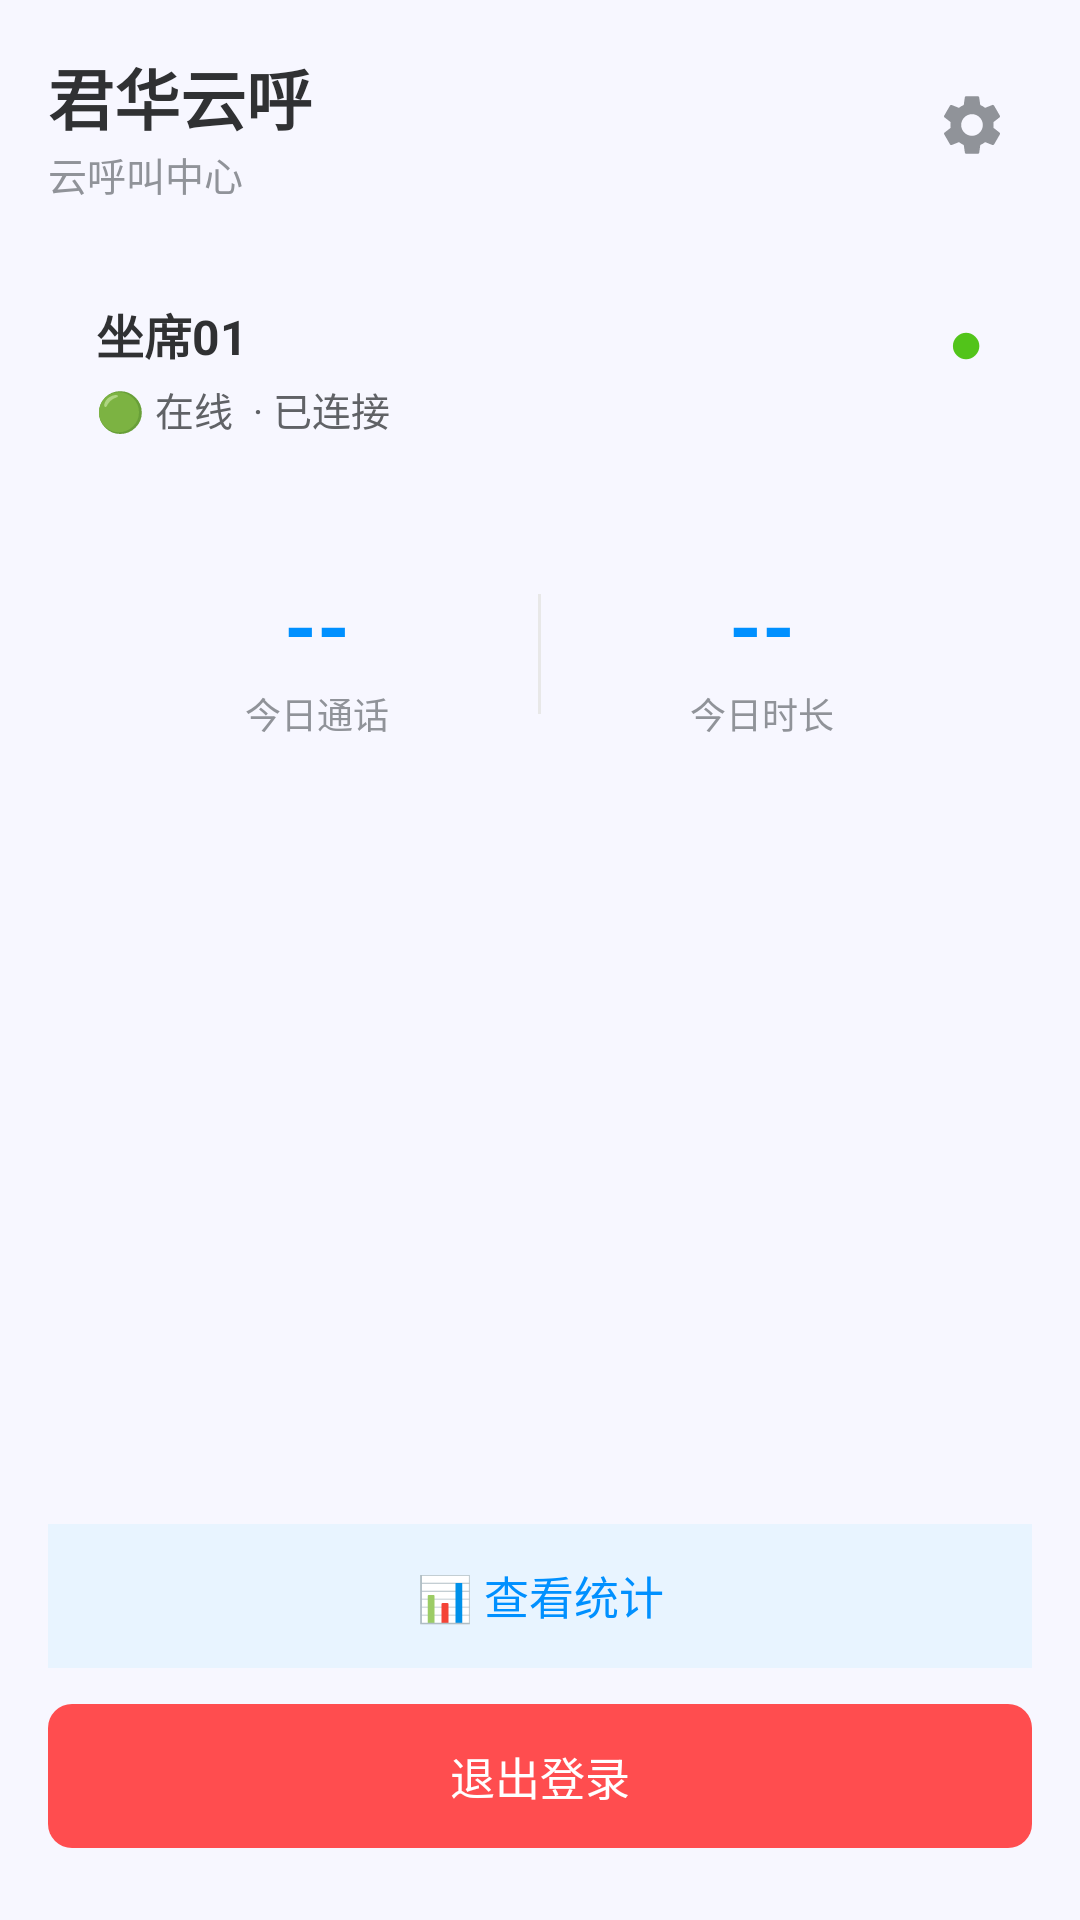

Named icons in this screenshot (1080px×1920px) and their bounding boxes, (x1, y1, x2, y2):
设置: (944, 96, 1000, 154)
